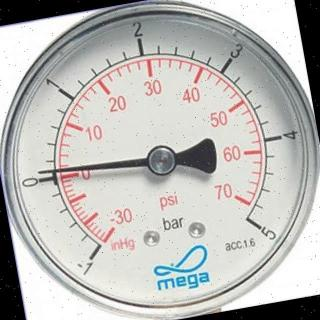gauge: (0, 0, 320, 320), (67, 225, 141, 283), (221, 197, 279, 253), (147, 144, 177, 176), (34, 165, 48, 178)
